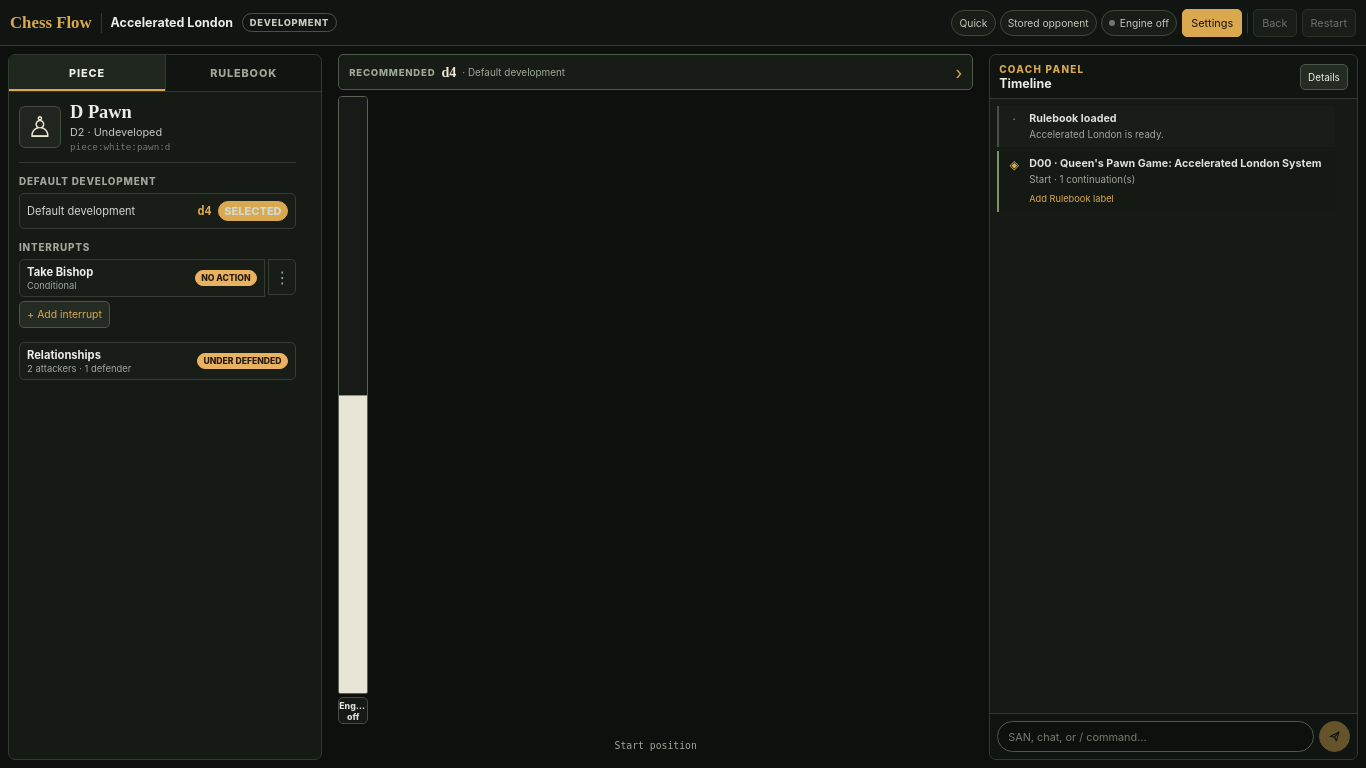
Scenario: compact Development Mode workspace › uses focused editors instead of expanding the Piece Inspector
Check: the element named "Piece Inspector" is shown, box left=19, top=102, right=296, bottom=380
Click the button with aria-label "Edit default development, d4, selected" at (81, 211), box left=19, top=193, right=296, bottom=229
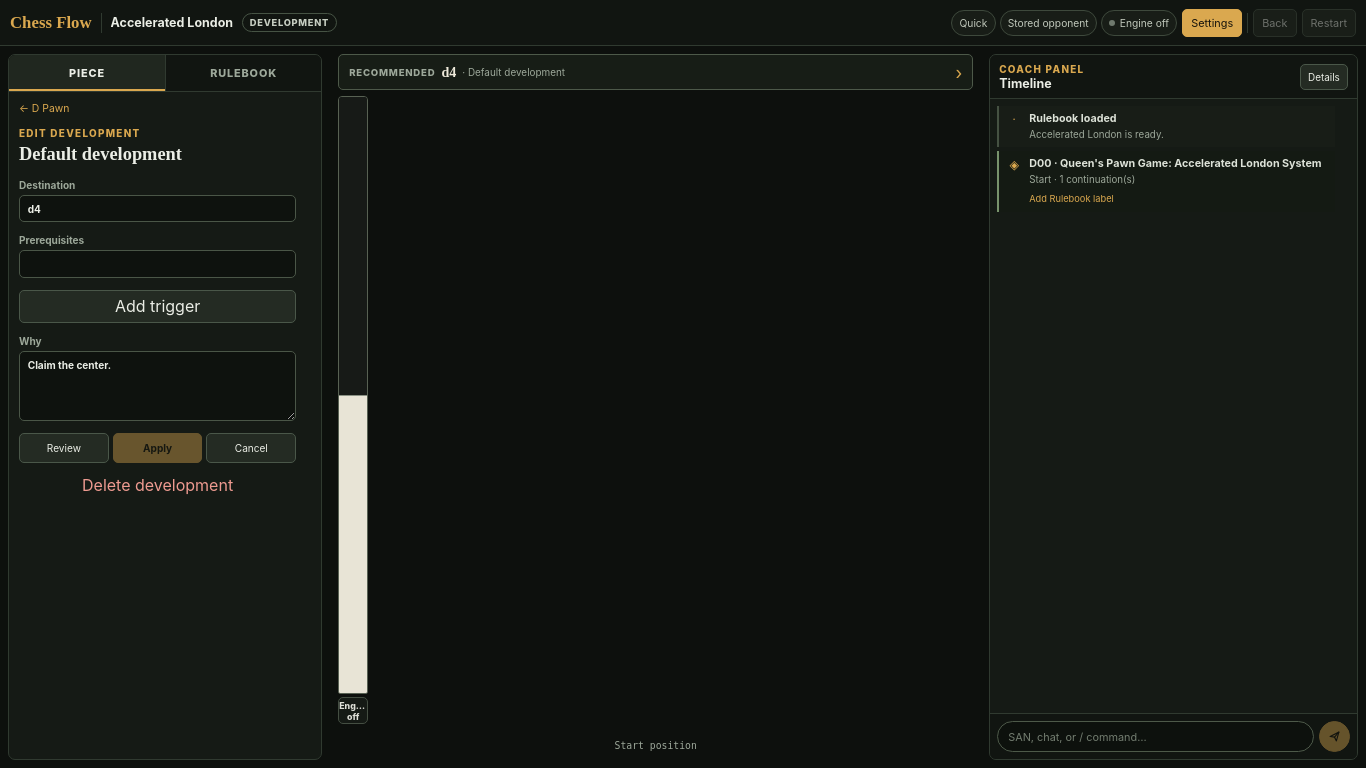
Check: the element named "Development editor" is shown, box left=19, top=102, right=296, bottom=495
Check: the field labelled "Destination" holds "d4", box left=19, top=195, right=296, bottom=222
Click the button "Cancel" at (251, 448), box left=206, top=433, right=296, bottom=463
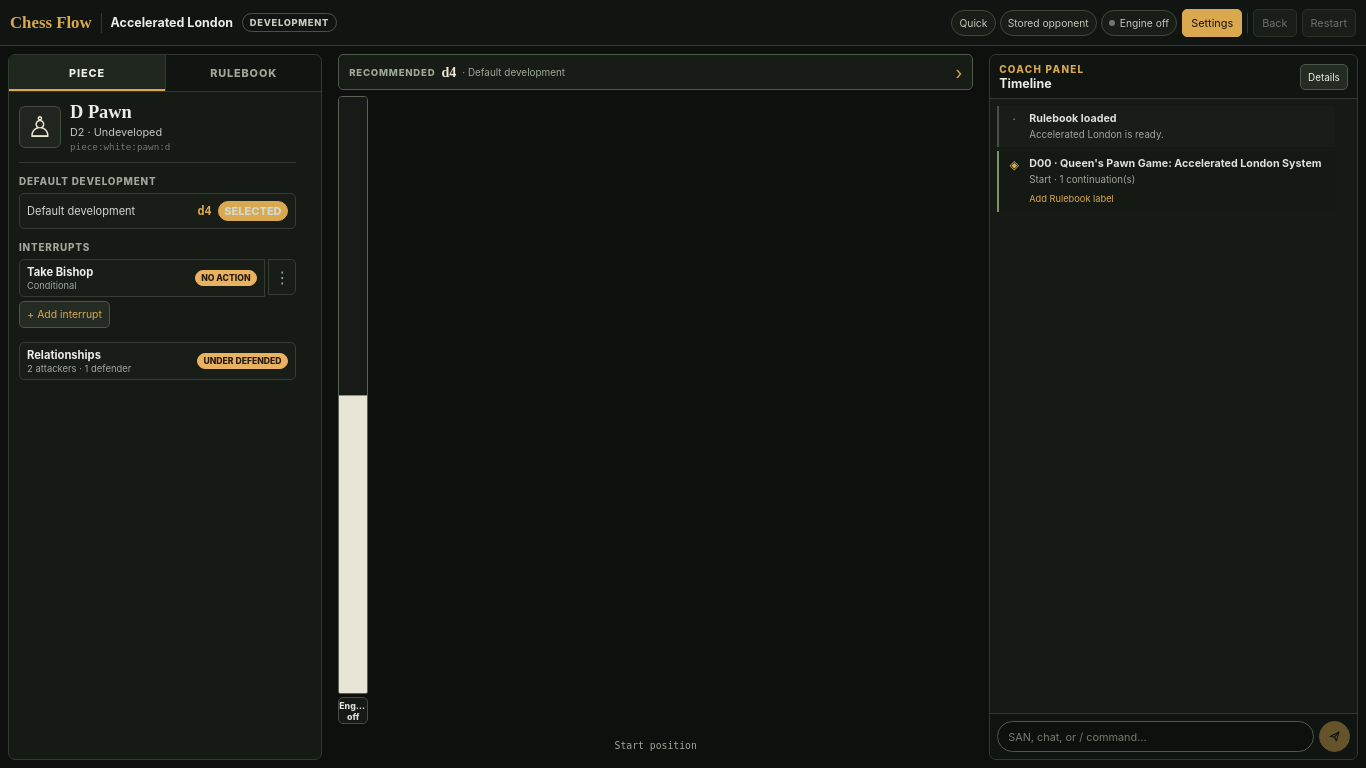
Check: the element named "Piece Inspector" is shown, box left=19, top=102, right=296, bottom=380
